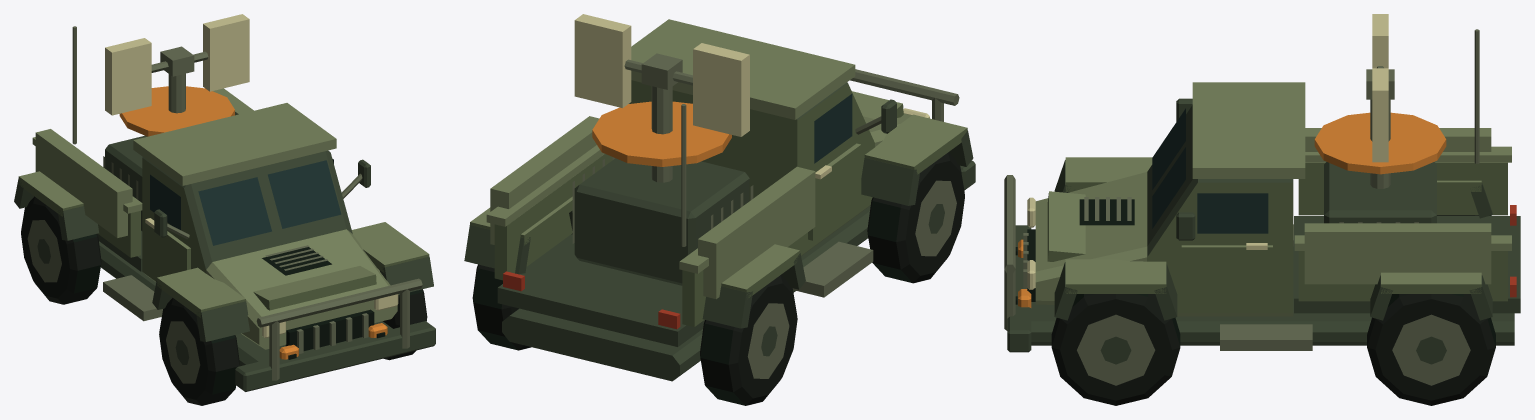
File: jammerTruck_armored.glb
The picture shows the model from 3 angles, left to right: view 1: azimuth 30°, elevation 25°; view 2: azimuth 150°, elevation 25°; view 3: azimuth 270°, elevation 25°; orthographic projection. The views are drawn at different scales.
Parts seen in each view (by area): view 1: Body, JammerHead, Wheel_-1_1.18, Wheel_-1_-1.17, JammerScan, Wheel_1_-1.17; view 2: Body, JammerHead, Wheel_-1_1.18, Wheel_-1_-1.17, JammerScan, Wheel_1_1.18; view 3: Body, Wheel_1_-1.17, Wheel_1_1.18, JammerScan, JammerHead.
Part boxes in pixels (x1=…): Body: x1=14, y1=26, x2=435, y2=391; JammerHead: x1=105, y1=14, x2=249, y2=115; Wheel_-1_1.18: x1=21, y1=196, x2=101, y2=304; Wheel_-1_-1.17: x1=159, y1=298, x2=239, y2=405; JammerScan: x1=119, y1=86, x2=234, y2=136; Wheel_1_-1.17: x1=383, y1=289, x2=427, y2=360; Body: x1=464, y1=19, x2=975, y2=381; JammerHead: x1=574, y1=14, x2=749, y2=136; Wheel_-1_1.18: x1=700, y1=275, x2=797, y2=405; Wheel_-1_-1.17: x1=867, y1=152, x2=964, y2=283; JammerScan: x1=592, y1=101, x2=731, y2=166; Wheel_1_1.18: x1=472, y1=264, x2=531, y2=350; Body: x1=1004, y1=29, x2=1520, y2=352; Wheel_1_-1.17: x1=1051, y1=294, x2=1180, y2=405; Wheel_1_1.18: x1=1367, y1=294, x2=1495, y2=405; JammerScan: x1=1314, y1=112, x2=1446, y2=174; JammerHead: x1=1366, y1=14, x2=1394, y2=162.
Size of the model in its own units: 3.85 by 4.17 by 6.62.
Materials: 1 (1 with a texture image).
